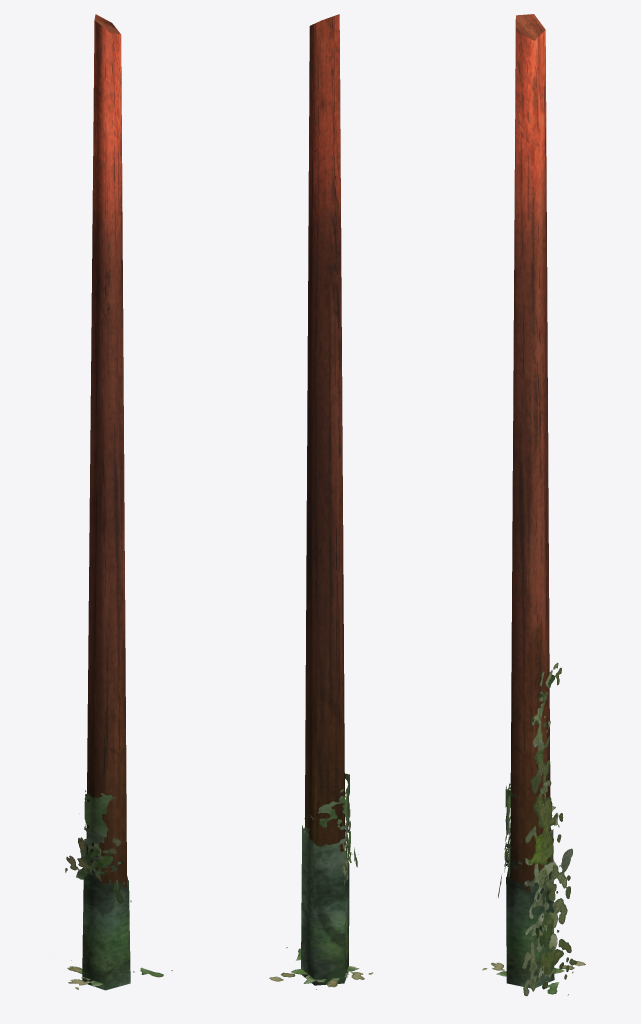
Rendered from pole1.fbx.
3 renders of one model, left to right at view 1: azimuth 30°, elevation 25°; view 2: azimuth 150°, elevation 25°; view 3: azimuth 330°, elevation 25°, orthographic.
Visible parts, largest first — view 1: pole; view 2: pole; view 3: pole.
Boxes of the visible parts, x1=… form: pole: x1=65, y1=14, x2=172, y2=990; pole: x1=269, y1=14, x2=373, y2=989; pole: x1=482, y1=14, x2=585, y2=995.
Bounding box in the file's own units: 56.41 × 439 × 56.35.
